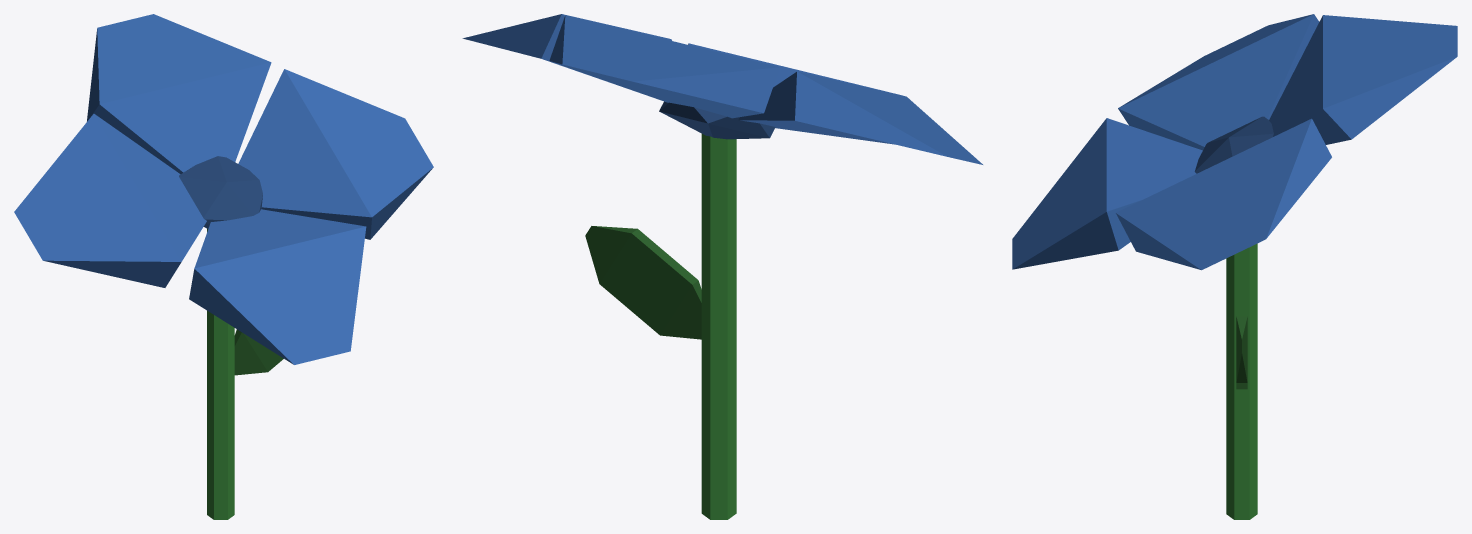
The model's file is Flower_2_Blue.fbx.
3 views of the same model, side by side, from view 1: azimuth 30°, elevation 25°; view 2: azimuth 150°, elevation 25°; view 3: azimuth 270°, elevation 25° (orthographic). The views are drawn at different scales.
Visible parts, largest first — view 1: Flower_2_Blue; view 2: Flower_2_Blue; view 3: Flower_2_Blue.
Part boxes in pixels (<box>): Flower_2_Blue: <box>14,14,433,519</box>; Flower_2_Blue: <box>462,14,982,519</box>; Flower_2_Blue: <box>1012,14,1457,519</box>.
Bounding box in the file's own units: 45.18 × 46.83 × 39.92.
